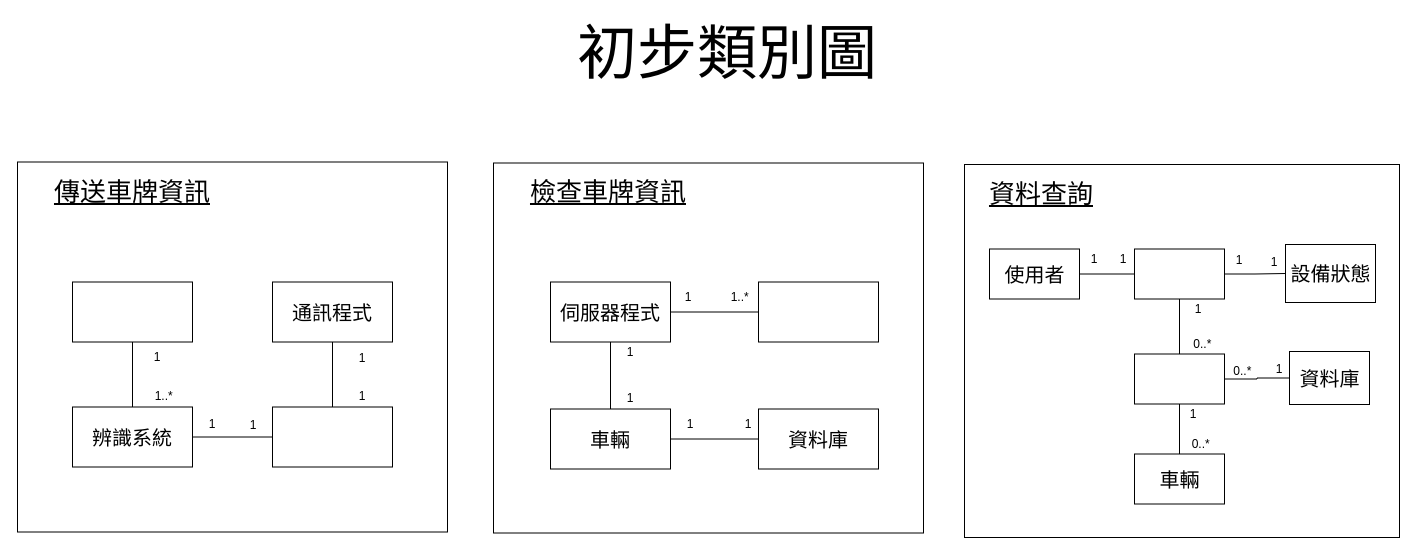
Image size: 1417x555. Some labels were removed from this diagram. Here are the shapes that lost their labels. From the top down, the centre of each, then its label:
At pixel 1179 273: "GUI".
At pixel 132 311: "攝影機".
At pixel 818 311: "訊息程式".
At pixel 1179 378: "車輛紀錄".
At pixel 332 436: "辨識結果".
